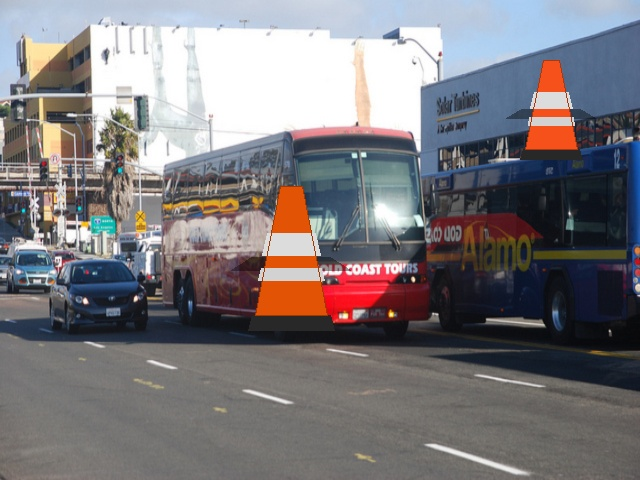traffic-cone: (248, 186, 334, 330), (520, 60, 582, 159)
